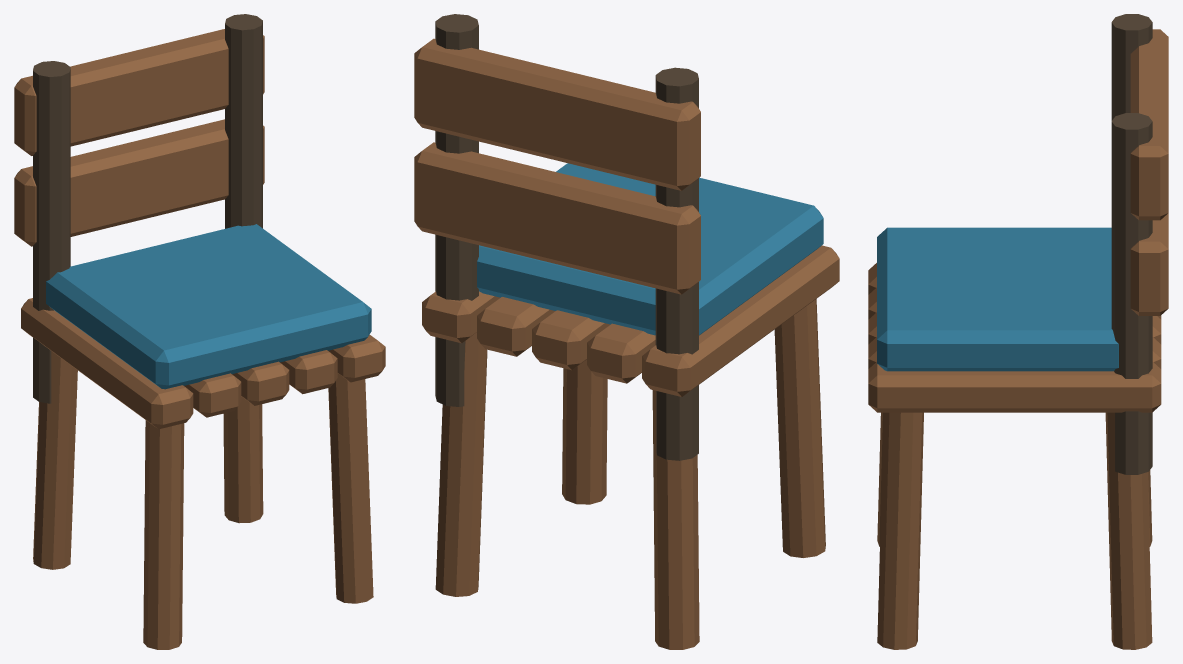
Rendered from Dock_Chair_A.glb.
3 renders of one model, left to right at view 1: azimuth 30°, elevation 25°; view 2: azimuth 150°, elevation 25°; view 3: azimuth 270°, elevation 25°, orthographic. The views are drawn at different scales.
Parts seen in each view (by area): view 1: Dock_Chair_A; view 2: Dock_Chair_A; view 3: Dock_Chair_A.
Part boxes in pixels (x1,y1,x2,y2): Dock_Chair_A: [14, 14, 385, 649]; Dock_Chair_A: [414, 14, 839, 649]; Dock_Chair_A: [868, 14, 1168, 649].
Size of the model in its own units: 0.5 by 0.9812 by 0.5125.
